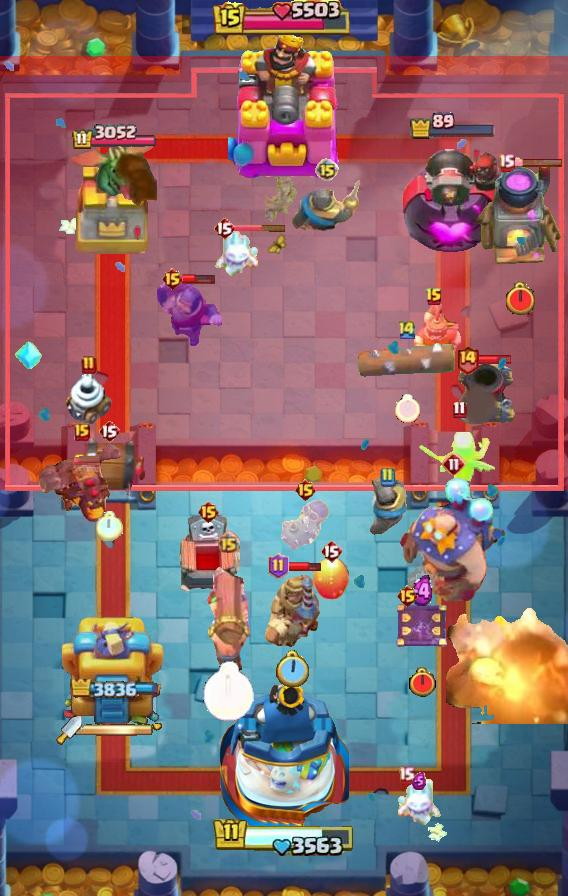archer-evolution: (39, 440, 125, 526)
bar: (62, 611, 166, 731)
bat: (213, 229, 261, 277), (395, 778, 443, 826)
battle-healer: (204, 559, 252, 673)
clock: (212, 817, 356, 859), (213, 0, 355, 38)
earthquake: (407, 303, 461, 373)
electro-spirit: (410, 575, 435, 608), (412, 772, 426, 790)
electro-wizard: (71, 134, 157, 208)
elixir: (201, 661, 254, 722), (277, 650, 312, 690), (503, 281, 537, 317), (408, 667, 437, 698), (97, 511, 123, 541), (396, 393, 421, 422)
elixir-golem-mid: (173, 514, 243, 600)
emote: (512, 157, 564, 168), (233, 223, 287, 232), (286, 559, 322, 572), (182, 273, 215, 285), (476, 355, 511, 366)
firecracker: (156, 276, 222, 348), (291, 179, 363, 234), (369, 478, 408, 536)
fisherman: (265, 177, 307, 222)
goblin-ball: (279, 499, 331, 555)
goblin-drill: (64, 370, 114, 426)
hog: (311, 557, 351, 601)
hunter: (475, 160, 565, 268)
ice-spirit-evolution-symbol: (395, 600, 449, 650)
king-tower: (219, 678, 349, 826), (228, 29, 340, 181)
king-tower-bar: (82, 723, 154, 737)
little-prince: (400, 477, 508, 603)
minion: (357, 341, 457, 379)
musketeer: (455, 359, 517, 427)
pad_2: (15, 338, 43, 372)
poison: (415, 422, 503, 496)
queen-tower: (71, 154, 157, 256)
ram-rider: (262, 568, 324, 650)
selected: (409, 112, 497, 140), (70, 125, 157, 152), (69, 679, 158, 697)
text: (456, 345, 481, 376), (315, 158, 339, 182), (442, 452, 466, 476), (161, 267, 184, 291), (294, 478, 317, 502), (196, 500, 219, 524), (397, 584, 420, 608), (268, 553, 289, 579), (216, 531, 239, 554), (213, 216, 235, 240), (98, 419, 120, 443), (320, 539, 342, 563), (397, 320, 417, 341), (425, 287, 443, 307), (497, 153, 515, 172), (398, 766, 415, 785), (81, 355, 97, 375), (379, 467, 395, 487), (74, 423, 90, 441), (453, 400, 467, 419)
the-log: (69, 436, 149, 496)
tower-bar: (401, 138, 505, 256)
valkyrie: (446, 596, 568, 724)
